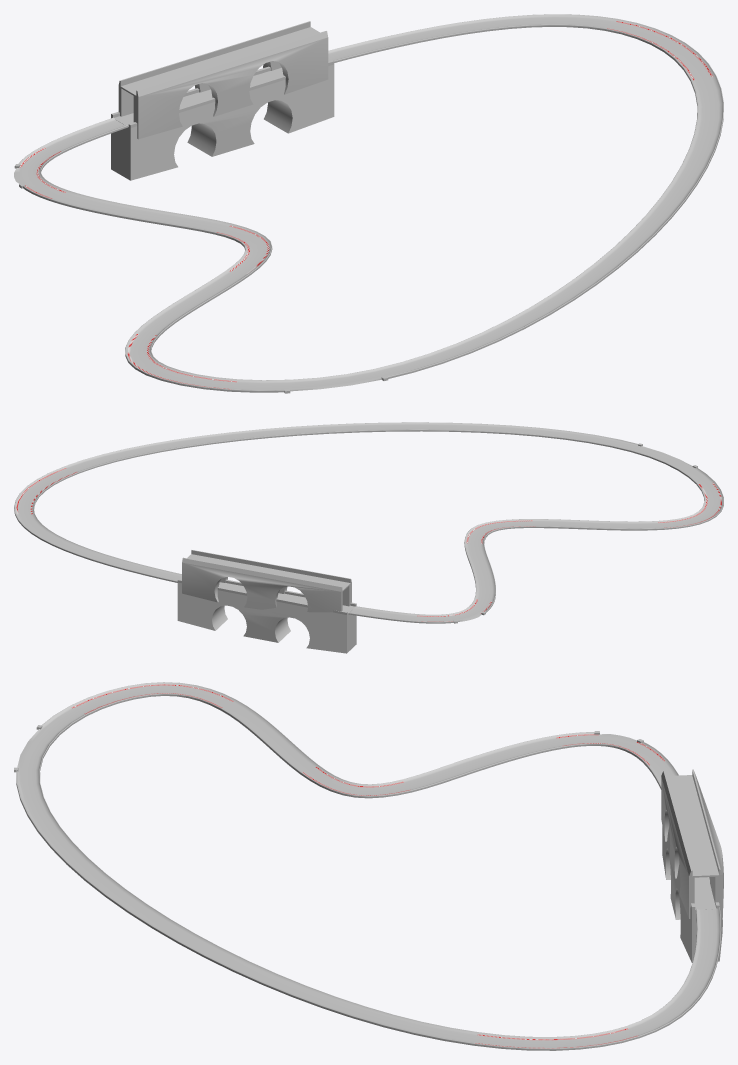
File: race-track.FBX
3 views of the same model, one above another, from view 1: azimuth 30°, elevation 25°; view 2: azimuth 150°, elevation 25°; view 3: azimuth 270°, elevation 25° (orthographic). The views are drawn at different scales.
Visible parts, largest first — view 1: Box02, bridgeTop, bridgeBottom; view 2: Box02, bridgeBottom, bridgeTop; view 3: Box02, bridgeTop, bridgeBottom.
Boxes of the visible parts, bbox=[...] form: Box02: bbox=[14, 14, 723, 392]; bridgeTop: bbox=[118, 21, 328, 139]; bridgeBottom: bbox=[111, 60, 334, 180]; Box02: bbox=[14, 422, 723, 623]; bridgeBottom: bbox=[177, 578, 356, 653]; bridgeTop: bbox=[182, 550, 351, 612]; Box02: bbox=[16, 682, 721, 1050]; bridgeTop: bbox=[661, 769, 723, 918]; bridgeBottom: bbox=[662, 824, 722, 962].
Size of the model in its own units: 145 by 16.31 by 119.
